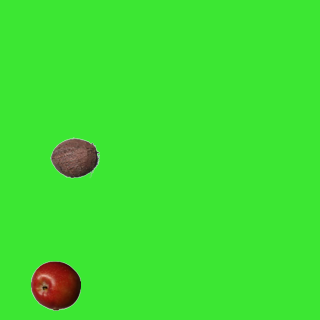Apple Braeburn: (30, 260, 80, 310)
Cocos: (49, 132, 99, 182)
